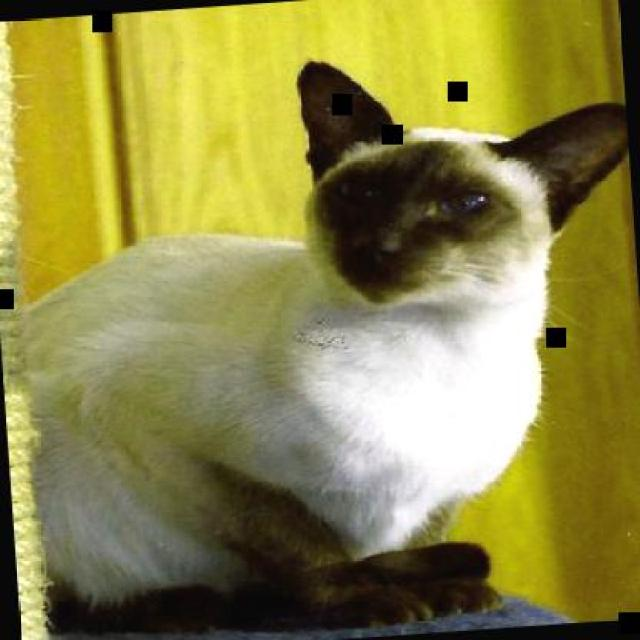cat: (3, 39, 639, 638)
